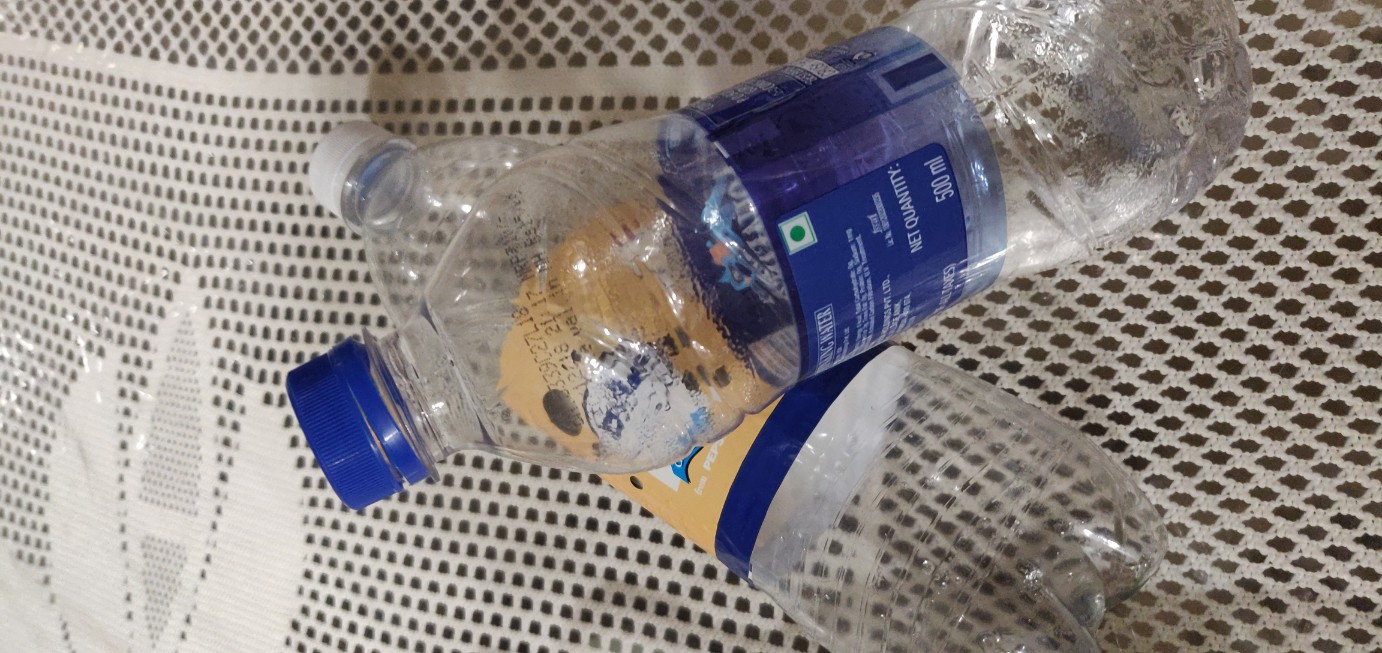Electronics: (250, 1, 1284, 522), (277, 87, 1194, 652)
